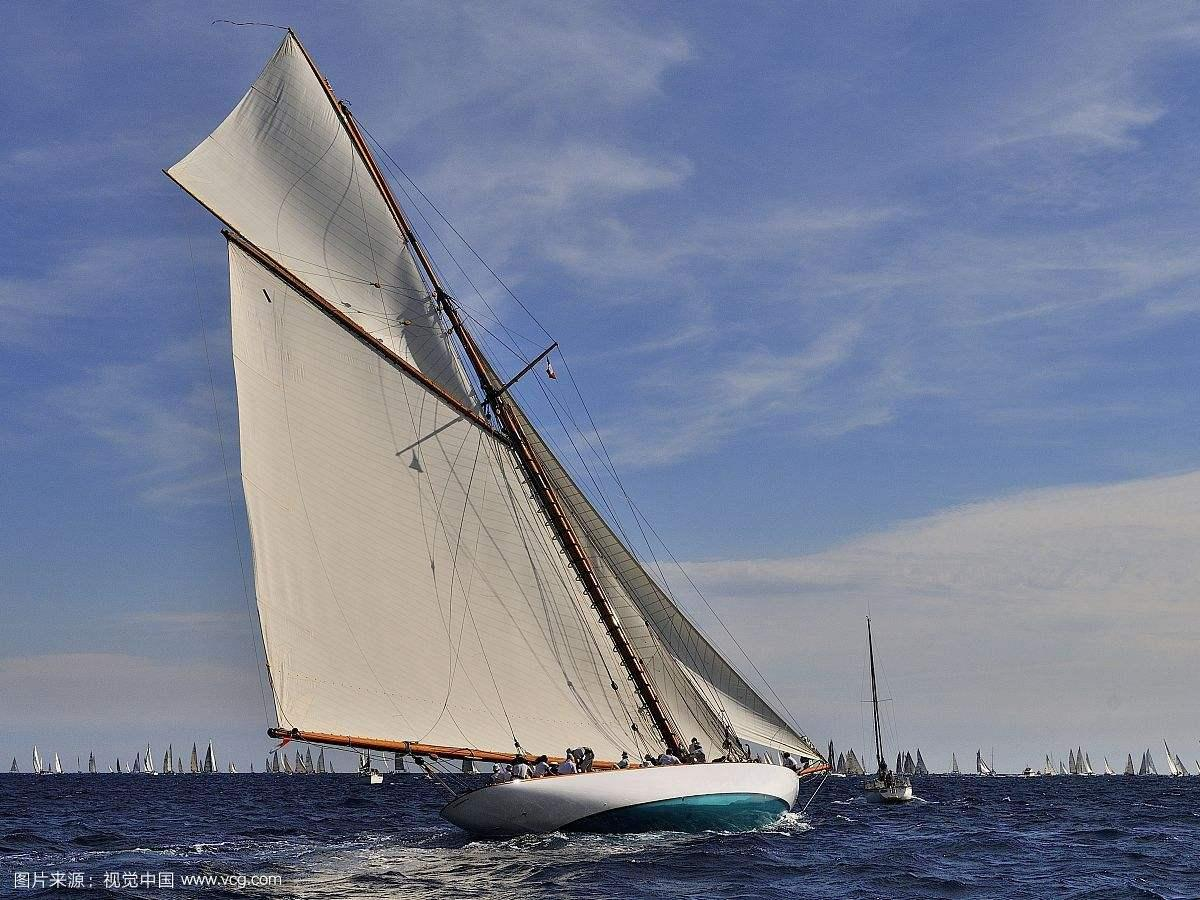fanchuan: (158, 15, 841, 847)
